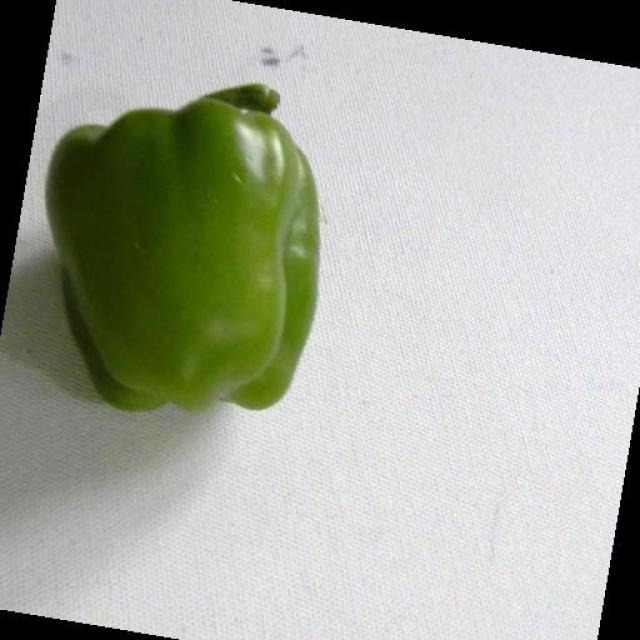Fresh_Capsicum: (51, 104, 342, 408)
